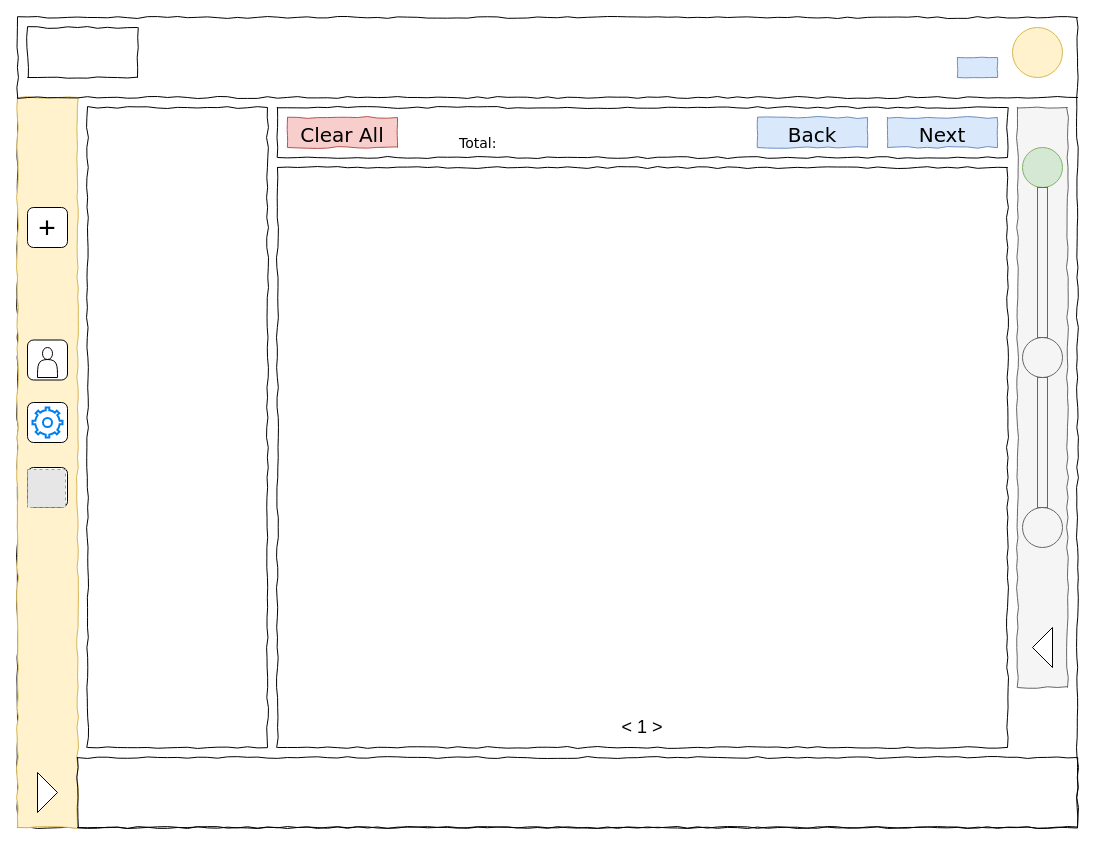
This 1095x845 diagram has some shape labels left out. Grey dashed boxes stand in for pictures. The centre of each missing label's shape, as x and y in pixels:
"LOGO" goes at point (82, 52).
"US" goes at point (1037, 52).
